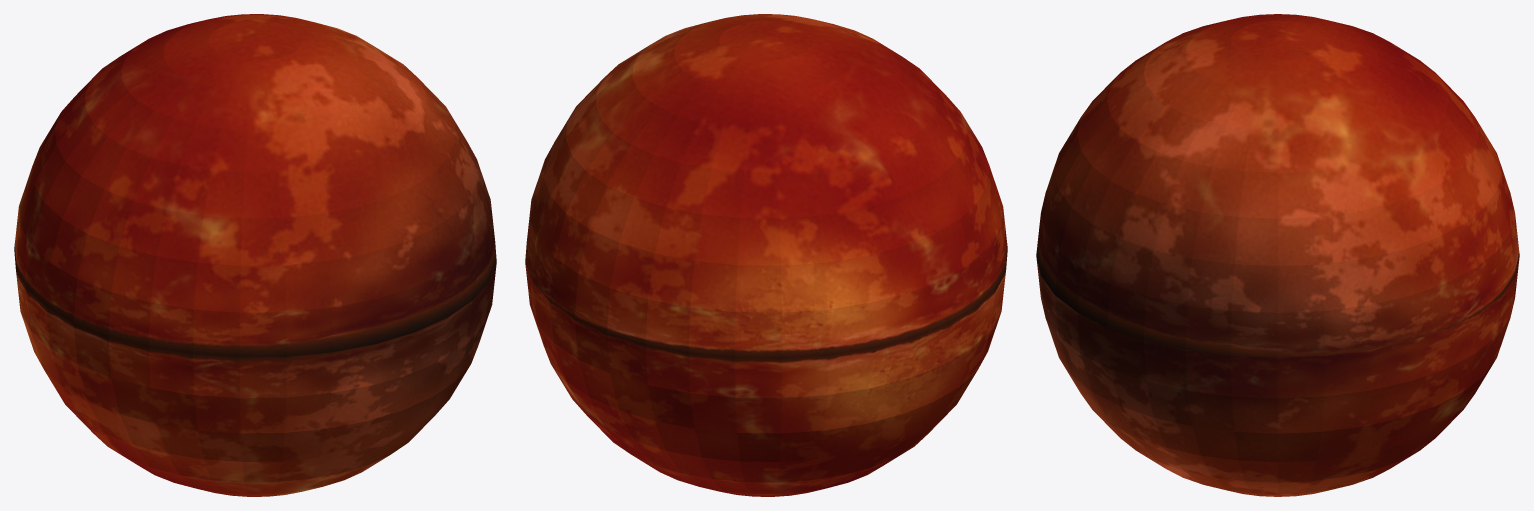
File: mars.obj
3 views of the same model, side by side, from view 1: azimuth 30°, elevation 25°; view 2: azimuth 150°, elevation 25°; view 3: azimuth 270°, elevation 25° (orthographic).
Parts seen in each view (by area): view 1: Sphere; view 2: Sphere; view 3: Sphere.
Part boxes in pixels (x1,y1,x2,y2): Sphere: (14, 14, 496, 496); Sphere: (525, 14, 1007, 496); Sphere: (1036, 14, 1519, 496).
Bounding box in the file's own units: 2 × 2 × 2.
Materials: 1 (1 with a texture image).
